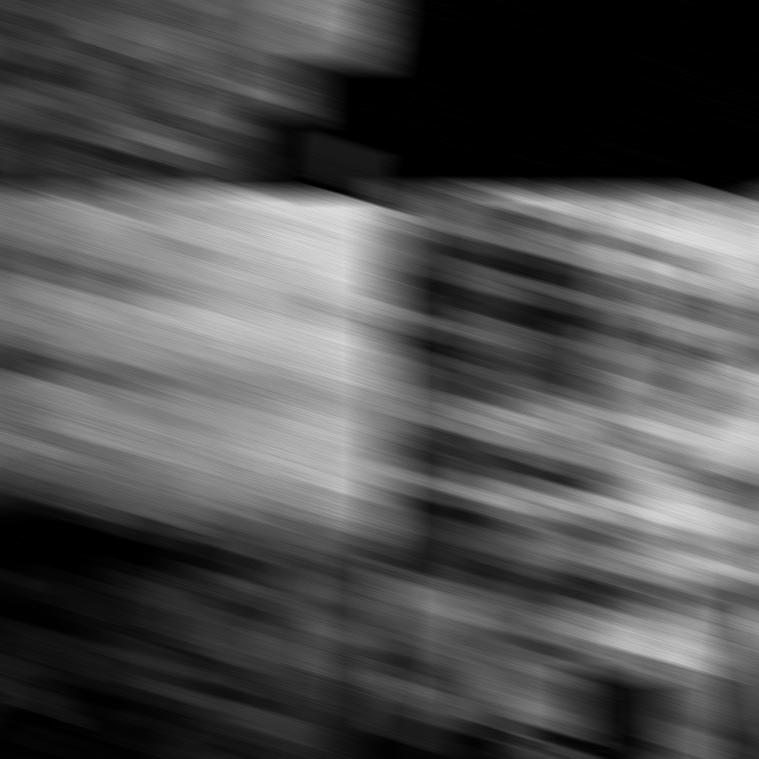Airbag: (0, 0, 397, 192)
